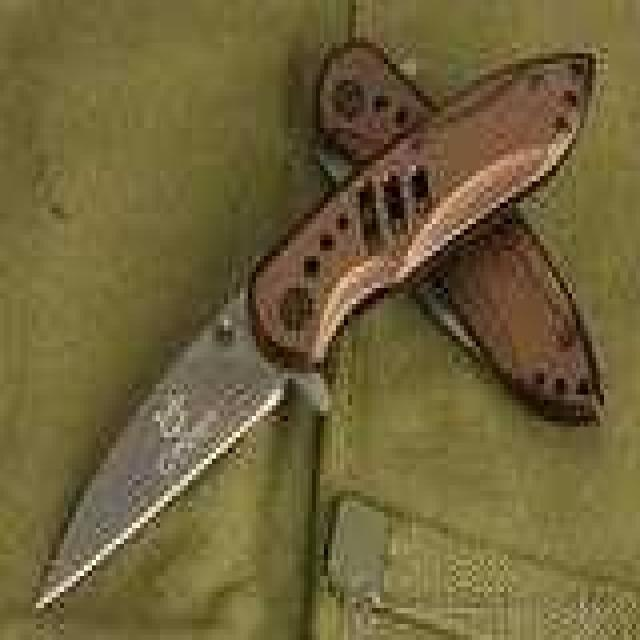Knife: (33, 42, 604, 626)
